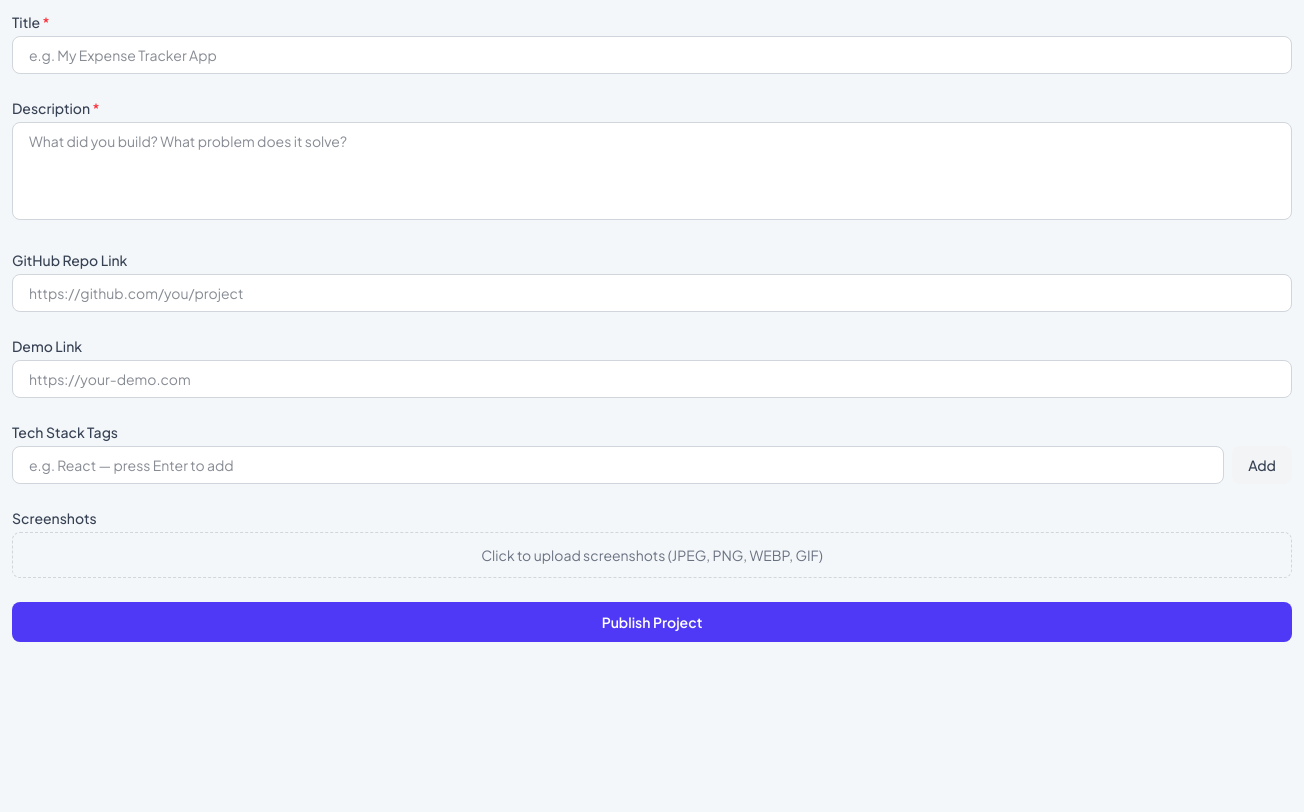
Scenario: PostForm › validation › shows error when description is empty on submit
This screenshot has width=1304, height=812.
Type "My Project" into the field with placeholder "e.g. My Expense Tracker App". click: (652, 55)
box: [12,36,1292,74]
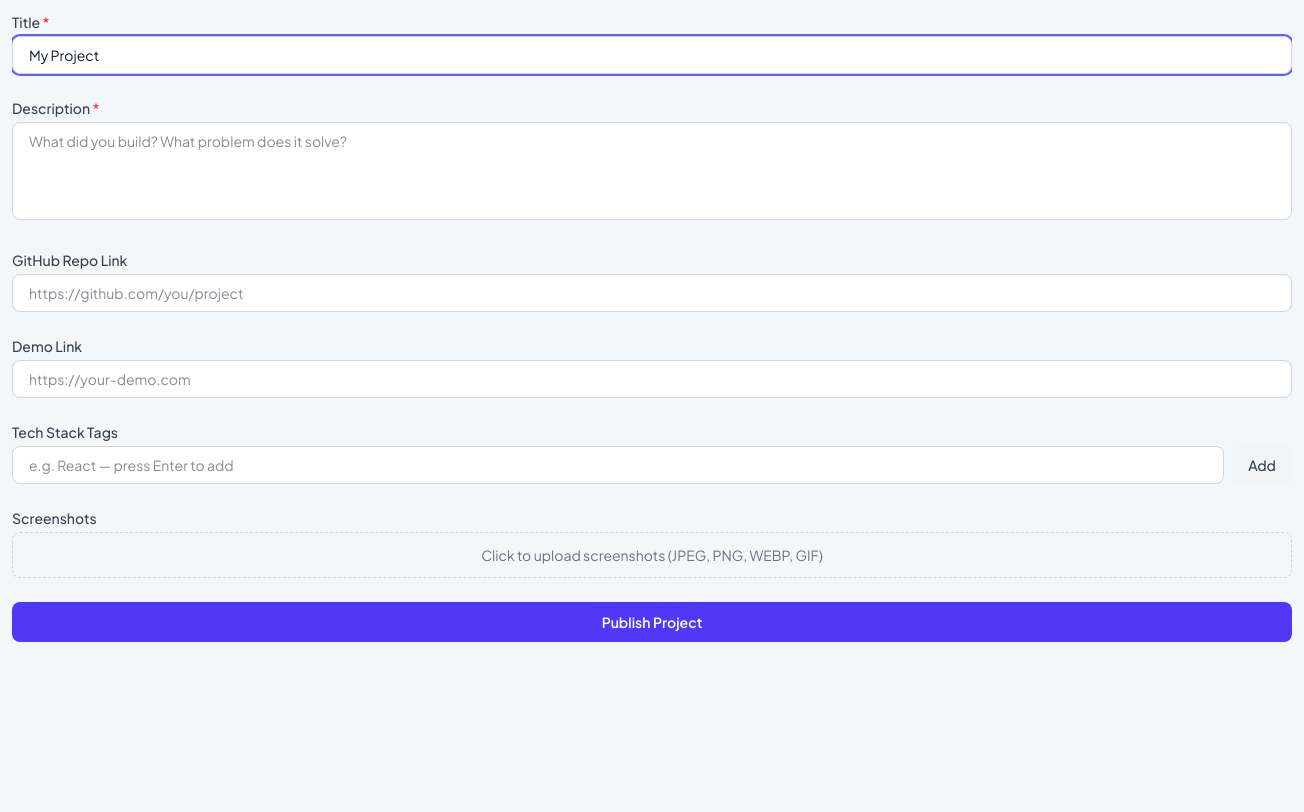
Click the button "Publish Project". click: click(652, 622)
box: [12,602,1292,642]
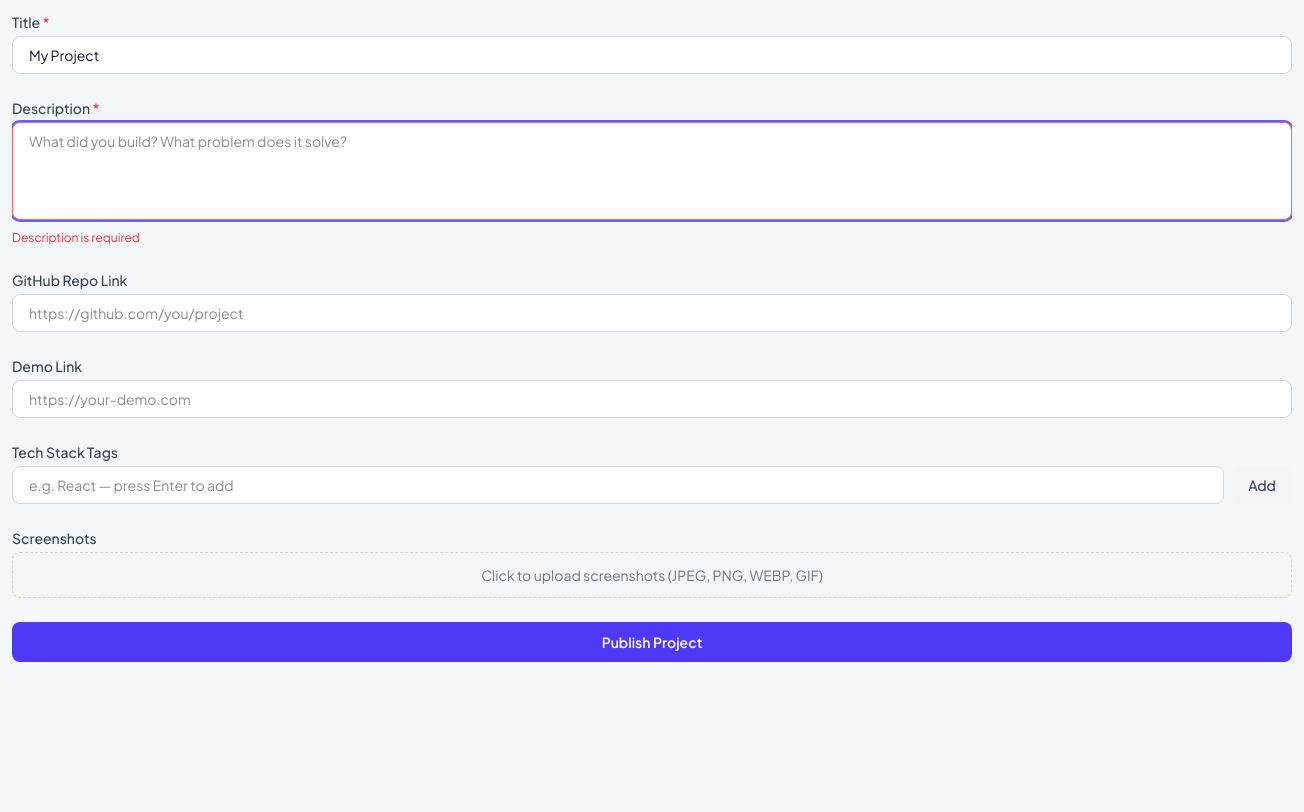
Check: the text "Description is required" is shown, box [12,230,140,245]
